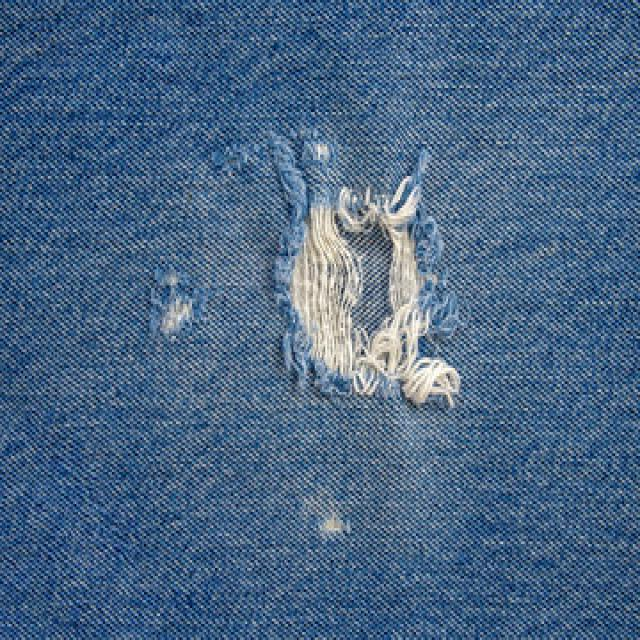Hole: (275, 168, 459, 406), (149, 268, 192, 339), (318, 512, 349, 538)
